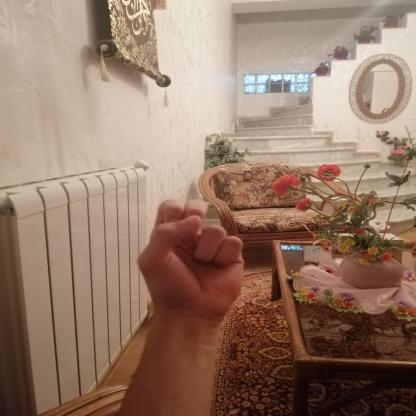QAAF: (122, 188, 263, 328)
